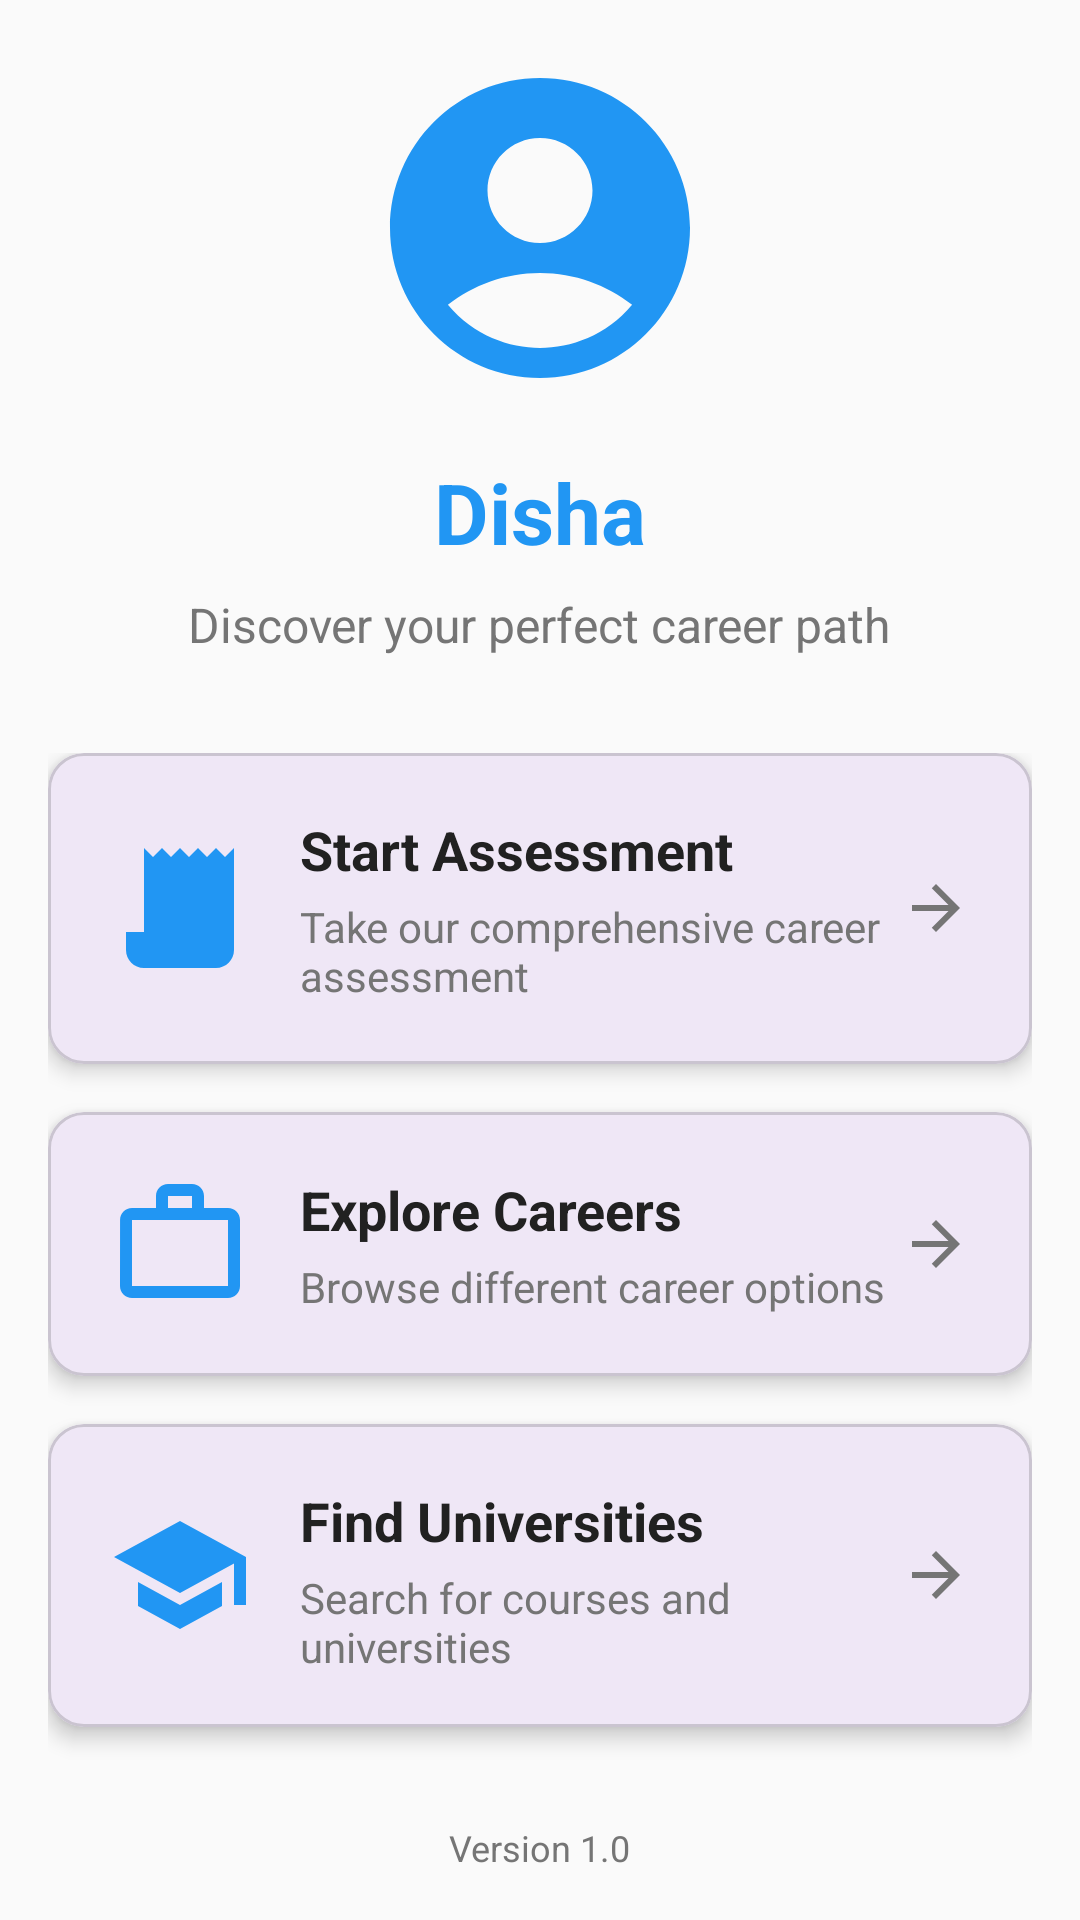

Icon bounding boxes for this 1080×1920 phone screenshot, format (x1, y1, x2, y2):
Forward Arrow: (912, 884, 960, 932), (912, 1220, 960, 1268), (912, 1551, 960, 1599)
University Icon: (114, 1521, 246, 1629)
